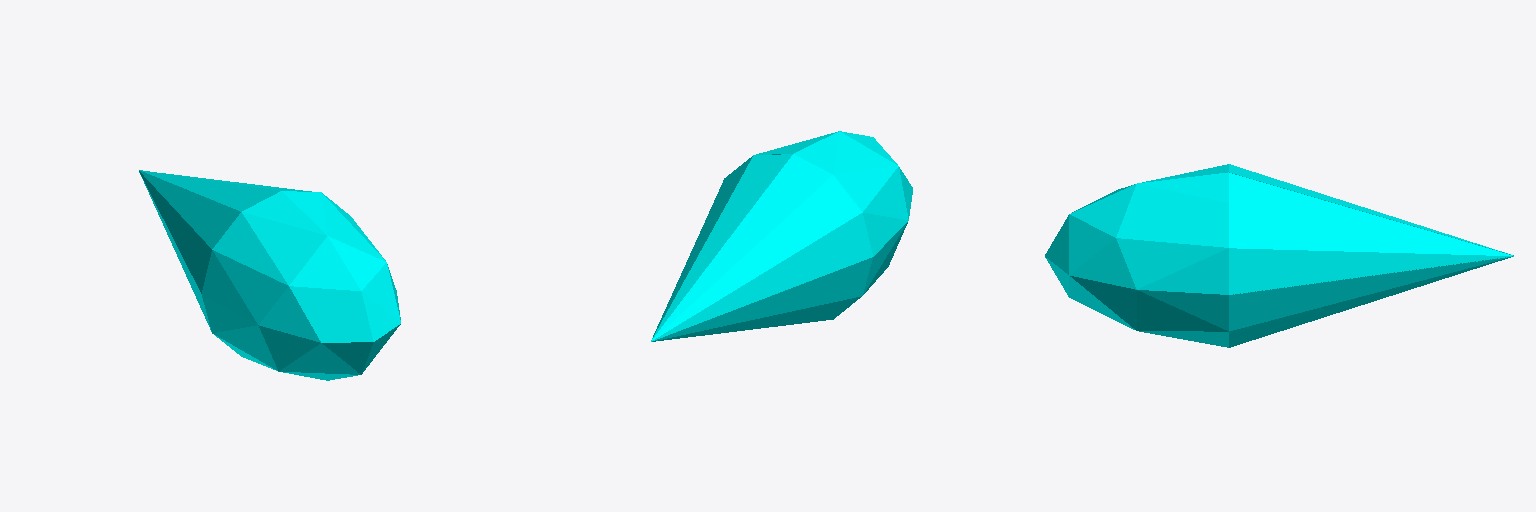
File: B-Plasma.obj
3 views of the same model, side by side, from view 1: azimuth 30°, elevation 25°; view 2: azimuth 150°, elevation 25°; view 3: azimuth 270°, elevation 25° (orthographic).
Parts seen in each view (by area): view 1: the_node.006_tri_288_geometry.001; view 2: the_node.006_tri_288_geometry.001; view 3: the_node.006_tri_288_geometry.001.
Part boxes in pixels (left/top/right/bottom): the_node.006_tri_288_geometry.001: left=139, top=170, right=400, bottom=380; the_node.006_tri_288_geometry.001: left=651, top=131, right=912, bottom=341; the_node.006_tri_288_geometry.001: left=1045, top=164, right=1513, bottom=347.
Bounding box in the file's own units: 0.1317 × 0.1317 × 0.336.